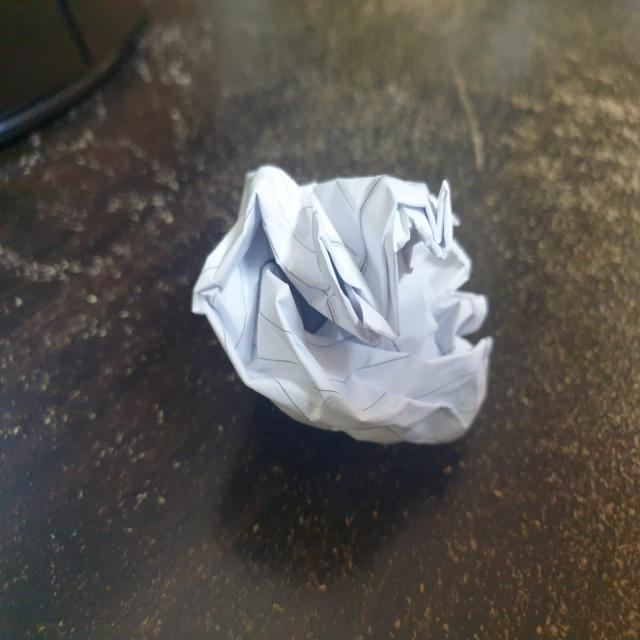cardboard paper: (191, 165, 490, 441)
